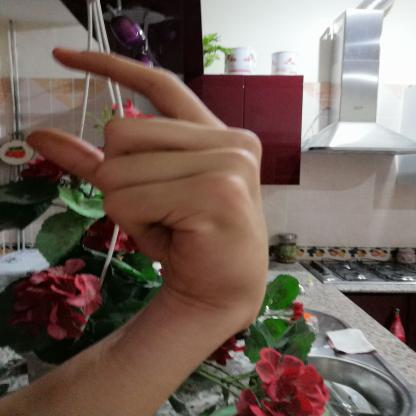DELL: (8, 35, 295, 327)
